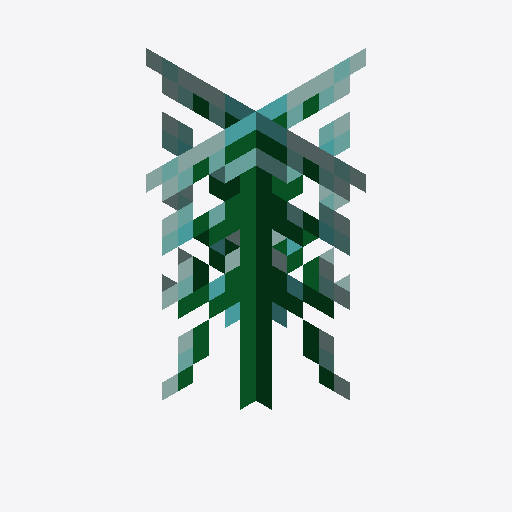
A Minecraft block model of 66 cuboids, rendered isometrically (azimuth 45°, elevation 35.3°) with the resource pack's own textures.
Visible parts, largest first — BottomStalk (×2), element 29, element 60, element 6, element 31, element 57, element 62, element 2, element 59, element 30, element 63, element 3 (+27 smaller).
Part boxes in pixels (left/top/right/bottom): BottomStalk (×2): left=240, top=102, right=271, bottom=409; element 29: left=209, top=193, right=239, bottom=246; element 60: left=272, top=193, right=302, bottom=246; element 6: left=178, top=320, right=208, bottom=372; element 31: left=162, top=202, right=192, bottom=255; element 57: left=303, top=320, right=333, bottom=372; element 62: left=319, top=202, right=349, bottom=255; element 2: left=225, top=247, right=239, bottom=327; element 59: left=272, top=247, right=286, bottom=327; element 30: left=319, top=112, right=349, bottom=155; element 63: left=162, top=112, right=192, bottom=155; element 3: left=225, top=121, right=239, bottom=182.
Size of the model in its own units: 14 by 16 by 14.